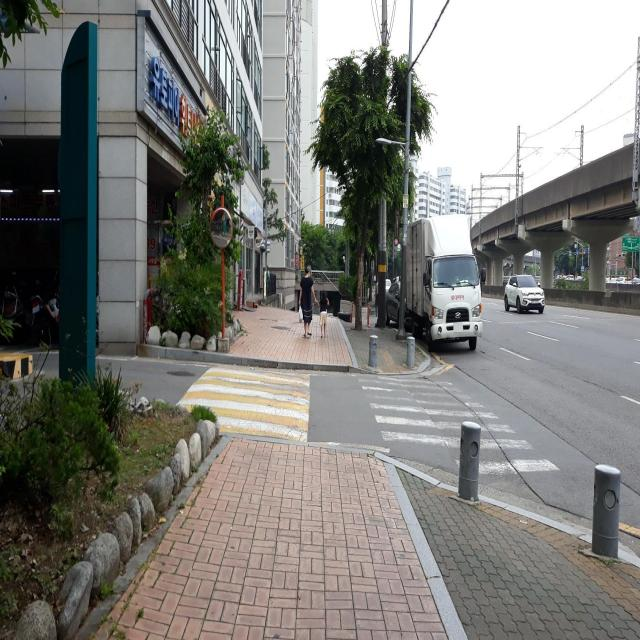횡단보도: (356, 373, 562, 477)
